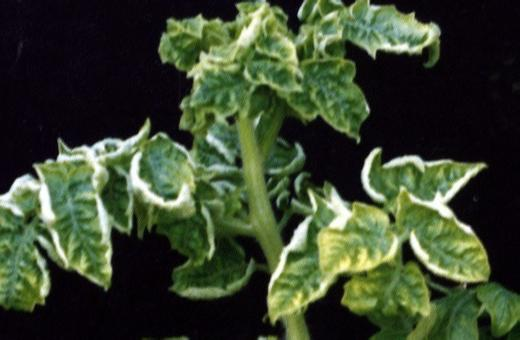Tomato leaf yellow virus: (38, 150, 118, 308), (390, 190, 490, 293), (355, 138, 488, 214), (310, 3, 442, 75), (297, 48, 377, 146), (303, 201, 401, 280), (129, 126, 201, 231), (0, 190, 52, 316)
